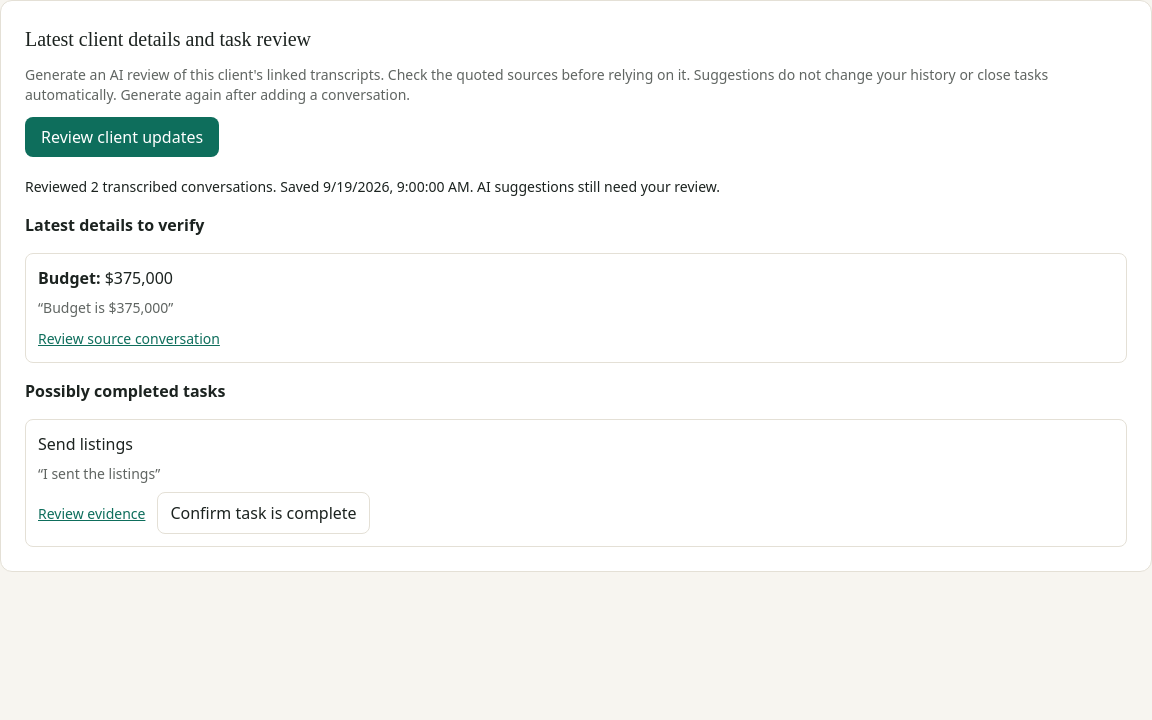
Scenario: keeps the saved review after refresh failure without completing a task
The width and height of the screenshot is (1152, 720).
Expected: the text "$375,000" is shown, [105,267,173,289]
Step 1. Click the button "Review client updates" → click(122, 137), box [25,117,219,157]
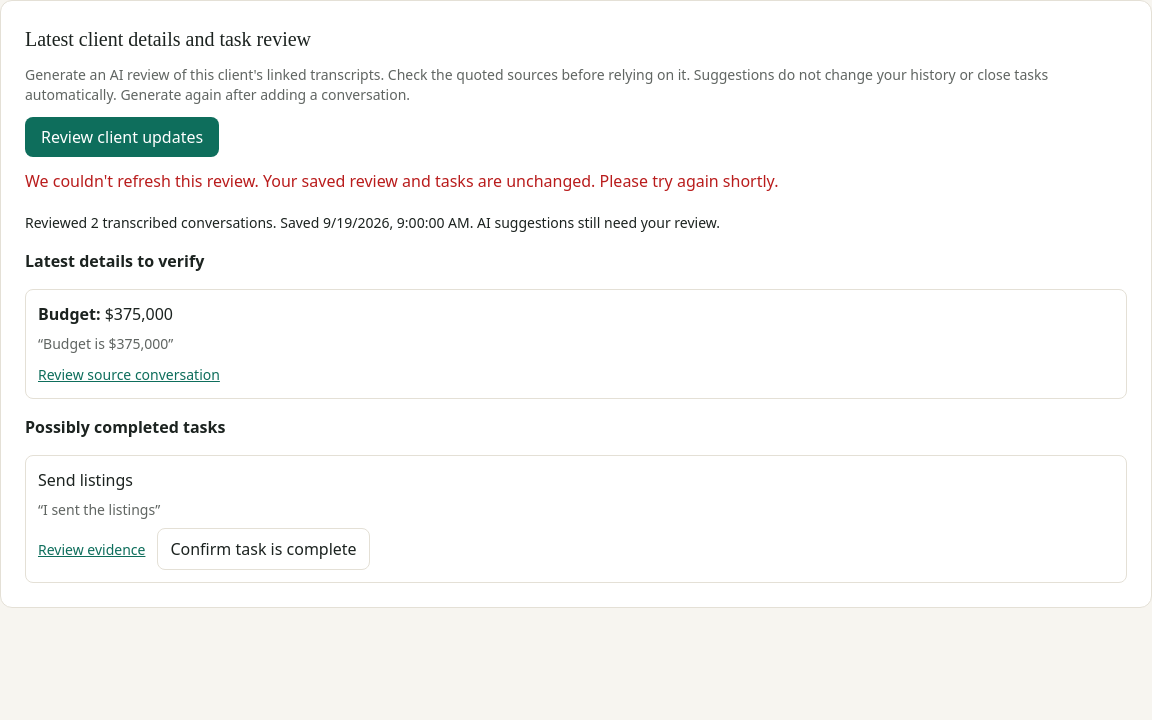
Expected: the text "$375,000" is shown, [105,303,173,325]
Now the message shows "We couldn't refresh this review. Your saved review and tasks are unchanged. Please try again shortly.", box [25,170,778,192]
